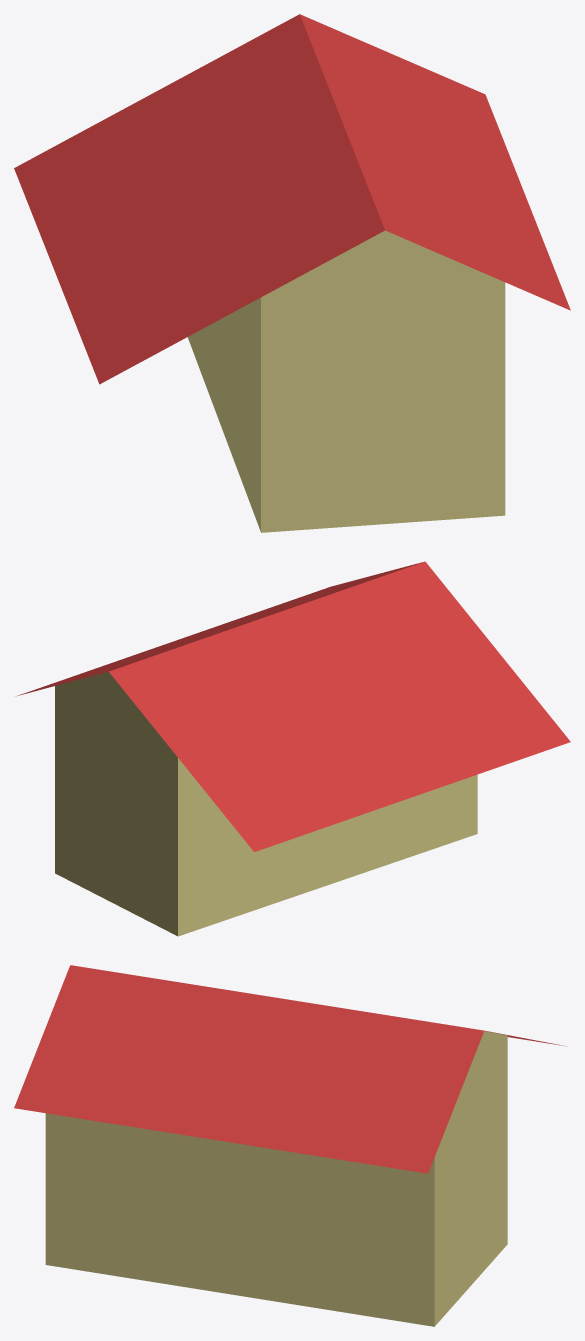
3 renders of one model, top to bottom at view 1: azimuth 30°, elevation 25°; view 2: azimuth 150°, elevation 25°; view 3: azimuth 270°, elevation 25°, orthographic. The views are drawn at different scales.
Bounding box in the file's own units: 20.26 × 21.03 × 10.66.
